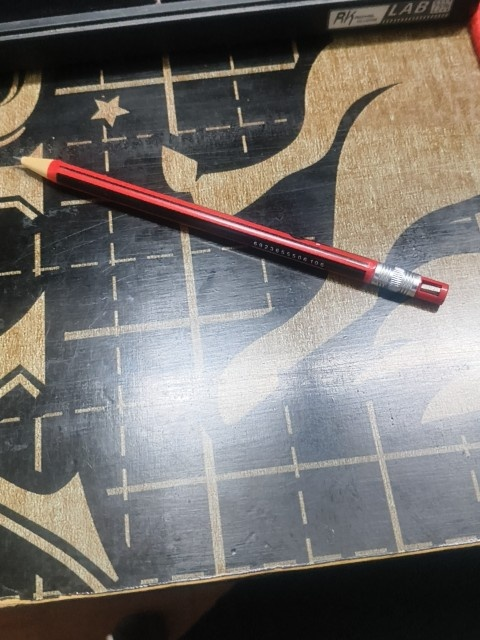pen: (20, 155, 451, 309)
